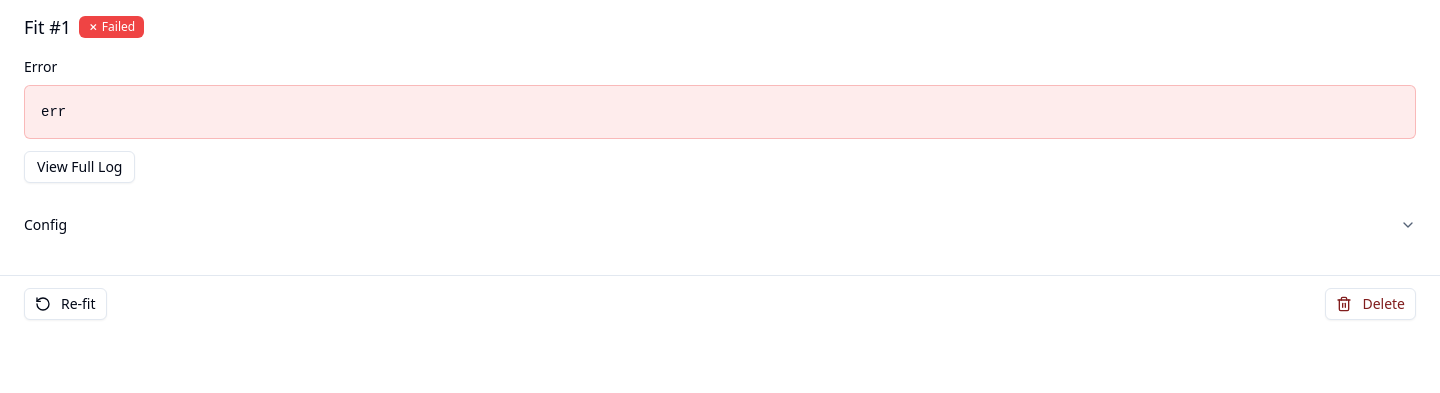
Test: JobDetailPanel - ConfigTreeView rendering › shows empty array representation in config
Click the button "Config" at (46, 224), box [24, 199, 1416, 251]
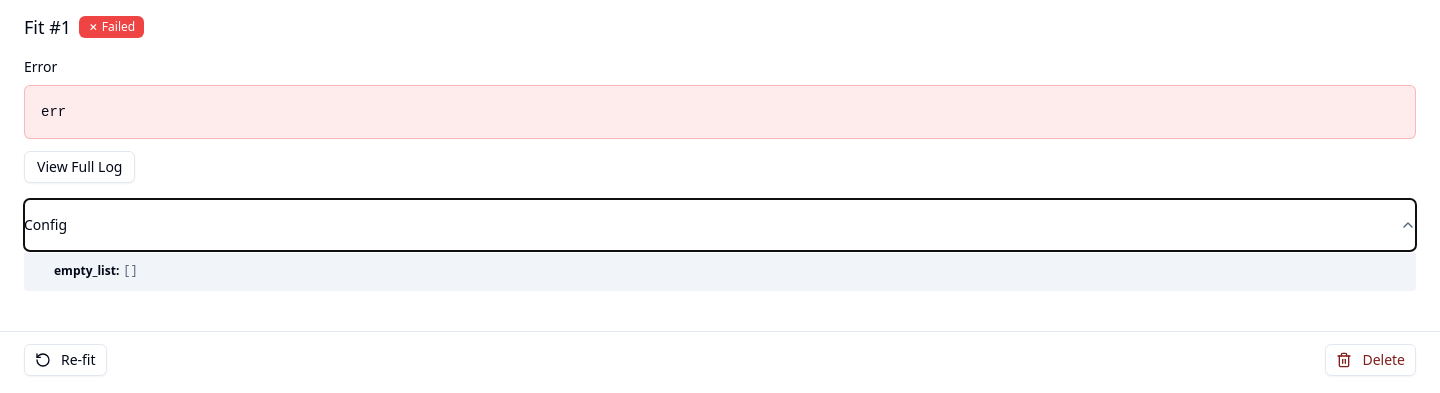
Expected: the text "[]" is shown, [123, 263, 138, 279]
